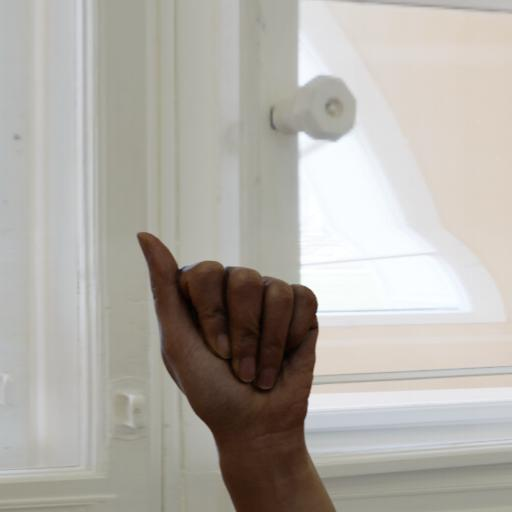A: (130, 227, 322, 442)
